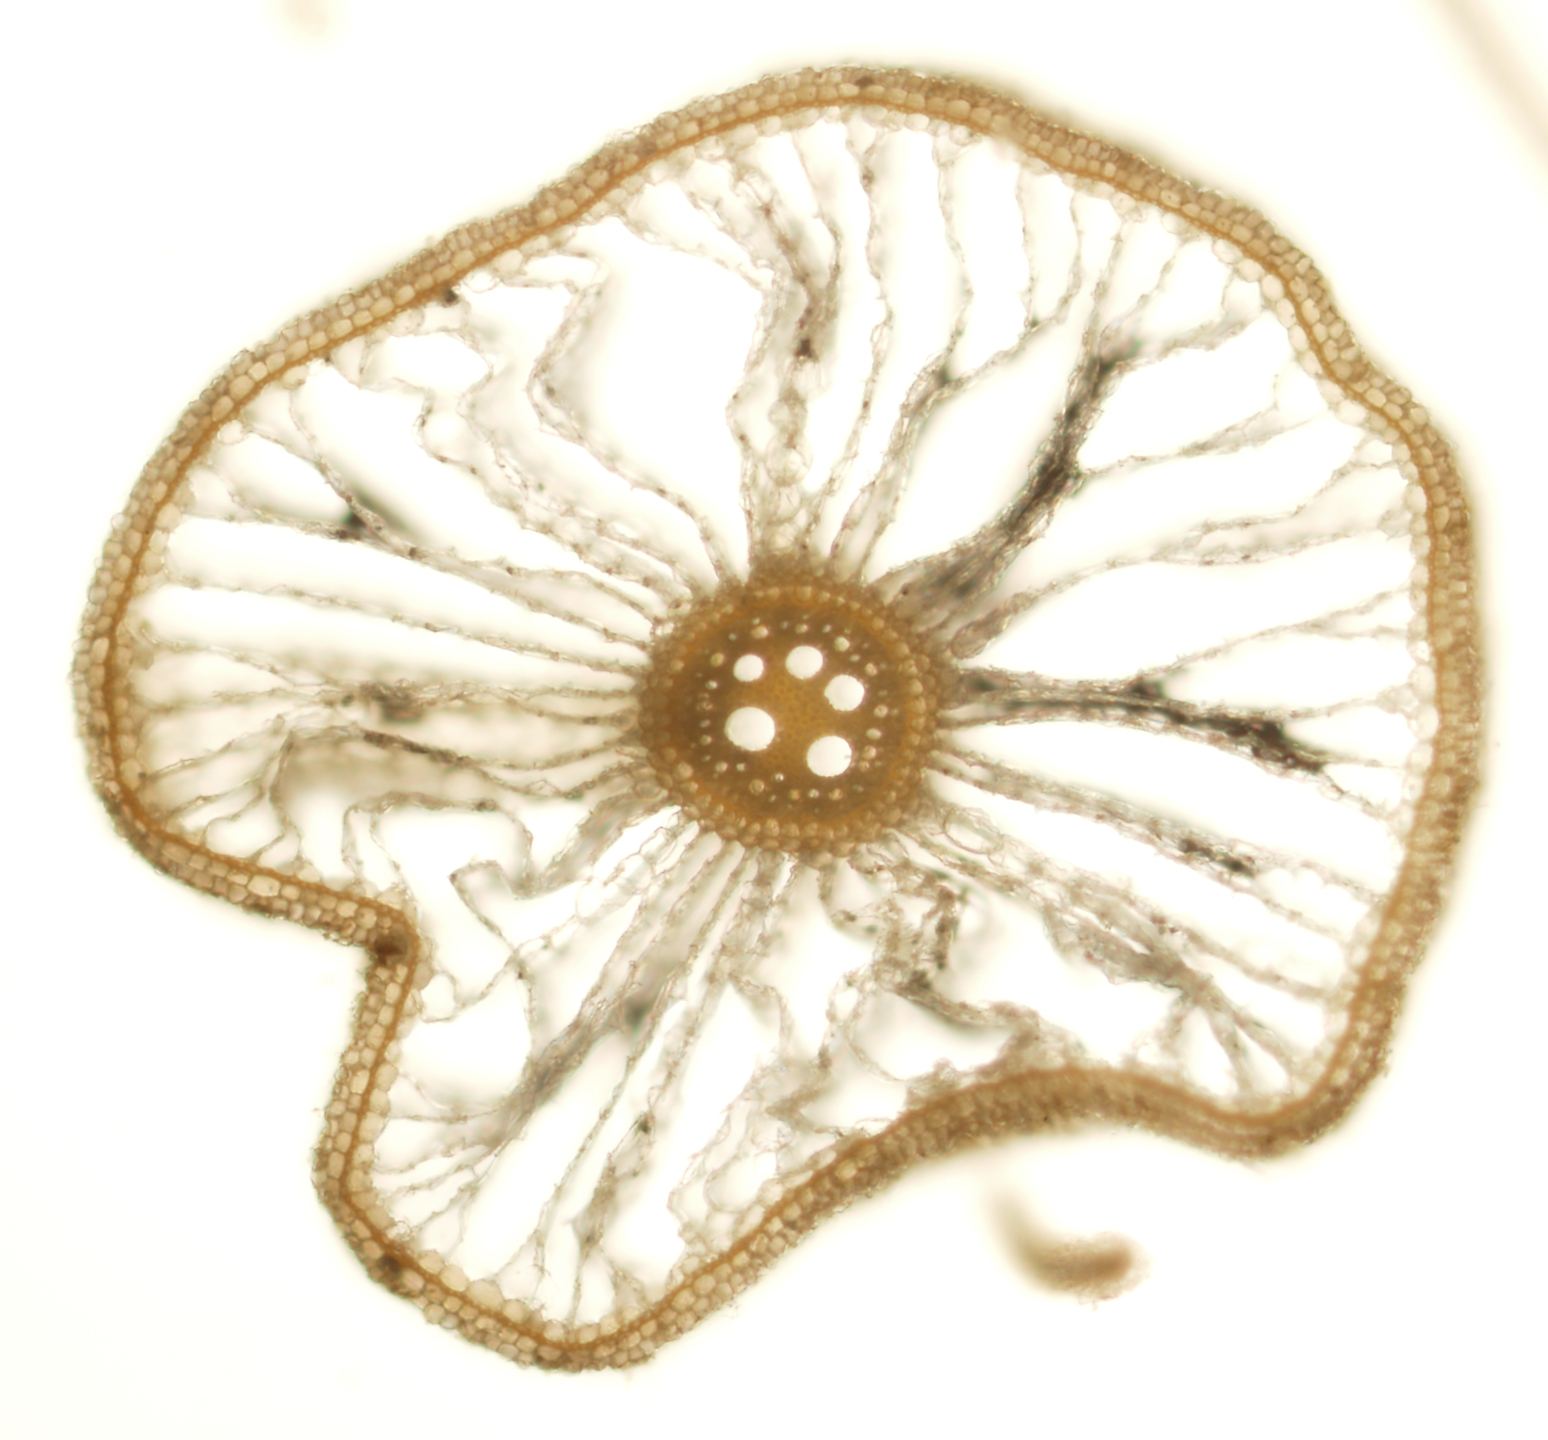lm: (724, 706, 775, 751), (806, 736, 852, 777), (824, 674, 865, 711), (785, 646, 823, 679), (733, 652, 765, 682)
